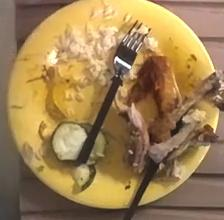cucumber: (53, 122, 91, 161), (86, 131, 106, 165)
rice: (53, 23, 122, 88)
